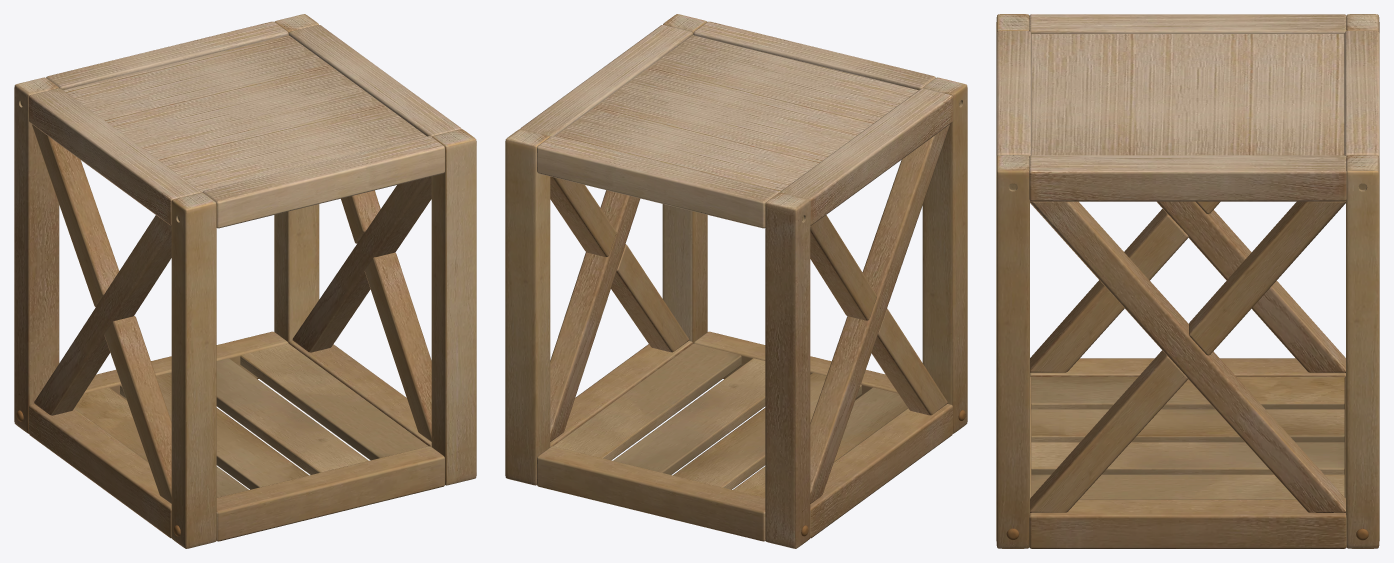
The model's file is abo-B084L7SNDG.glb.
The picture shows the model from 3 angles, left to right: view 1: azimuth 30°, elevation 25°; view 2: azimuth 150°, elevation 25°; view 3: azimuth 270°, elevation 25°; orthographic projection. The views are drawn at different scales.
Size of the model in its own units: 0.558 by 0.61 by 0.559.
1 material, 1 textured.
